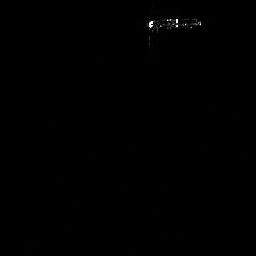ship: (142, 13, 204, 35)
